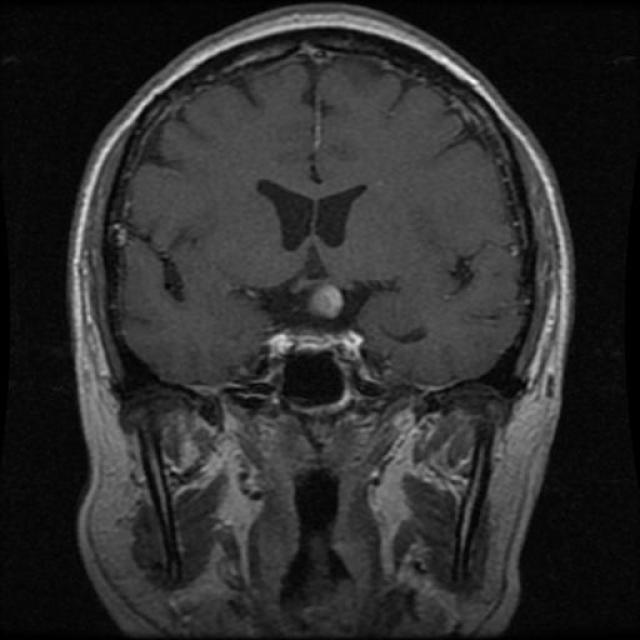pituitary: (252, 274, 368, 369)
